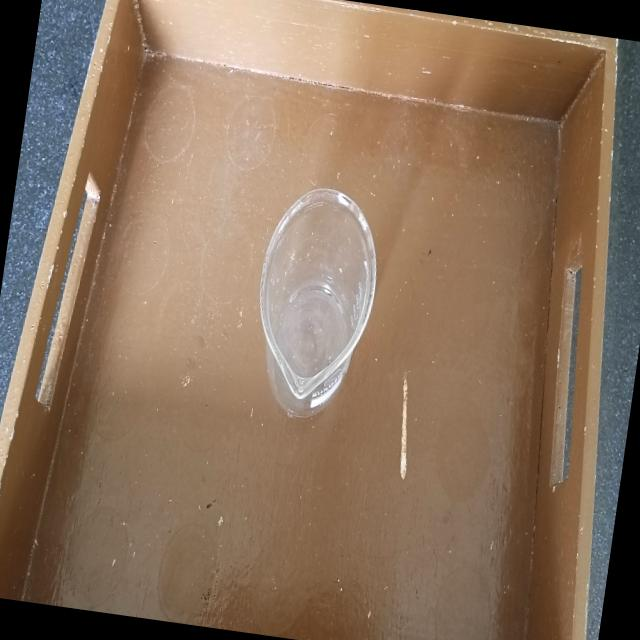beaker: (236, 170, 394, 436)
